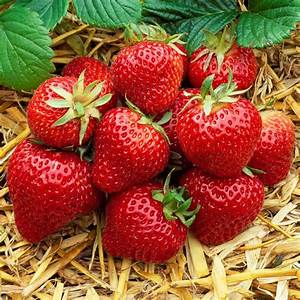Fresa: (3, 135, 109, 246), (99, 178, 192, 274), (176, 89, 265, 185), (178, 161, 267, 254), (88, 102, 176, 194), (109, 32, 184, 120), (23, 74, 102, 151), (184, 29, 262, 97), (252, 106, 300, 190)
